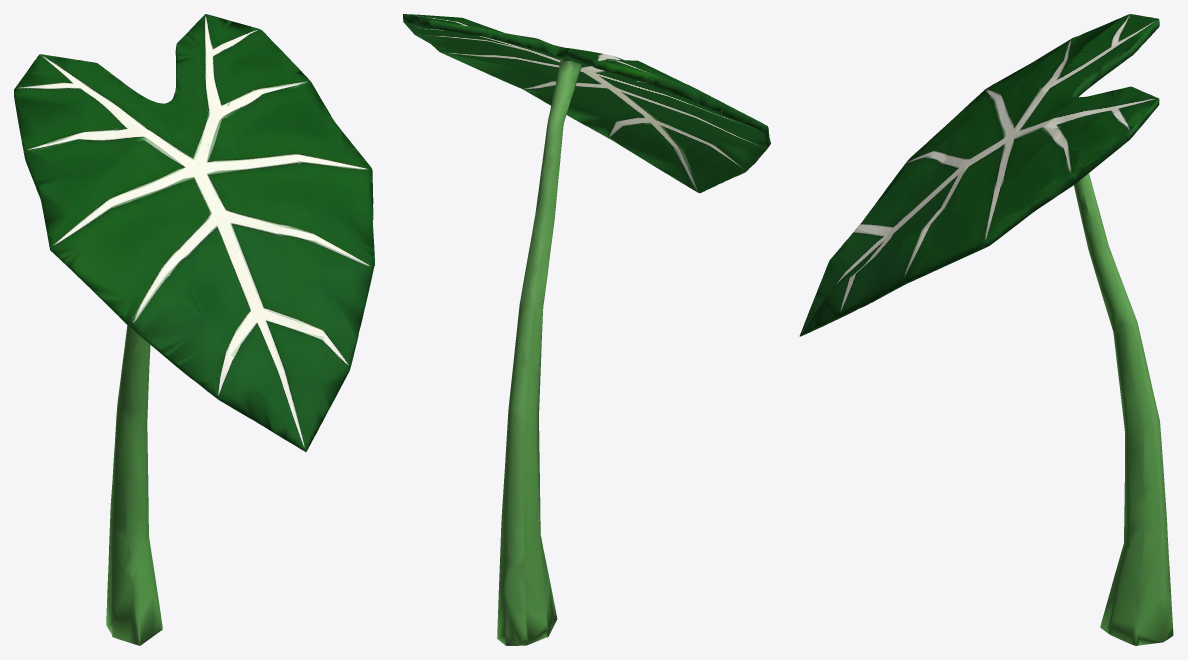
Rendered from al_leaf_young.glb.
3 renders of one model, left to right at view 1: azimuth 30°, elevation 25°; view 2: azimuth 150°, elevation 25°; view 3: azimuth 270°, elevation 25°, orthographic. The views are drawn at different scales.
Size of the model in its own units: 1.09 by 1.9 by 1.12.
Materials: 1 (1 with a texture image).
